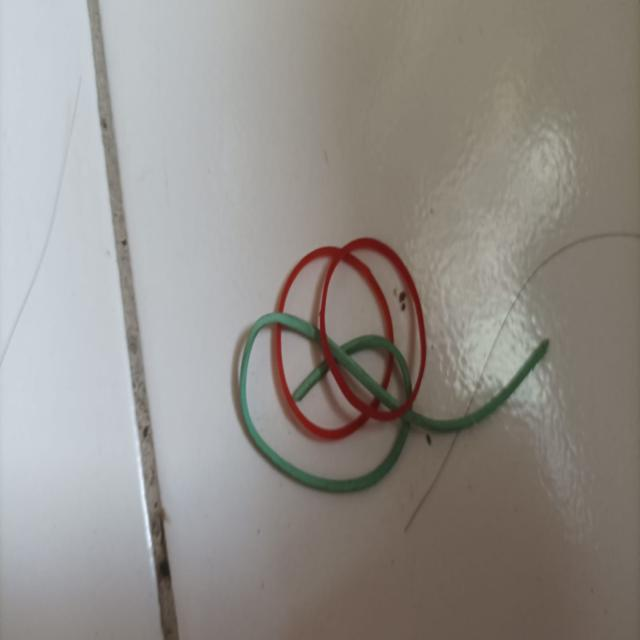Organik: (225, 222, 556, 542)
